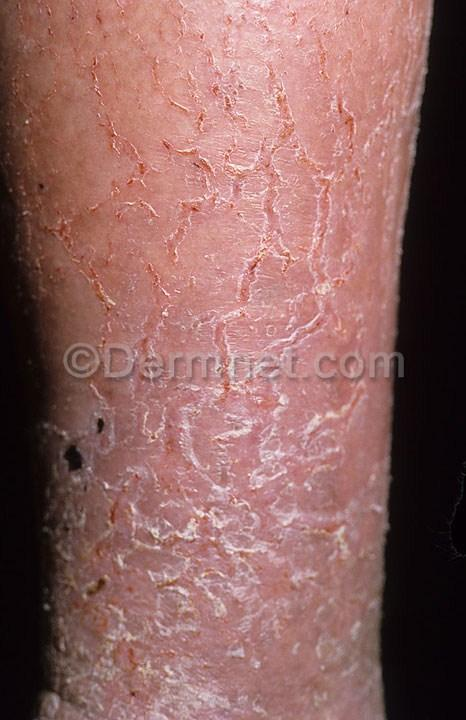Eczema: (27, 269, 139, 388), (207, 375, 304, 492), (128, 408, 198, 566), (88, 190, 178, 289), (58, 561, 150, 654), (307, 392, 384, 503), (27, 400, 127, 485), (232, 606, 322, 693), (47, 482, 138, 568), (288, 253, 360, 361), (193, 75, 275, 164), (227, 93, 323, 169), (330, 279, 392, 395), (358, 3, 418, 119), (325, 594, 384, 708), (185, 179, 254, 276), (145, 570, 220, 659), (214, 334, 321, 394), (148, 306, 210, 409), (133, 30, 211, 110), (323, 99, 380, 201), (238, 175, 326, 241), (198, 454, 270, 531), (27, 171, 80, 274), (216, 10, 303, 72), (202, 288, 296, 345), (142, 652, 228, 712), (303, 24, 368, 103), (0, 94, 71, 163), (207, 526, 273, 600), (272, 496, 403, 533), (337, 200, 402, 271), (299, 532, 380, 588), (153, 114, 221, 180), (64, 671, 140, 720), (58, 46, 118, 106), (86, 121, 144, 180), (376, 109, 408, 215), (227, 690, 326, 719), (272, 542, 298, 605), (74, 9, 123, 35), (32, 11, 61, 53)
